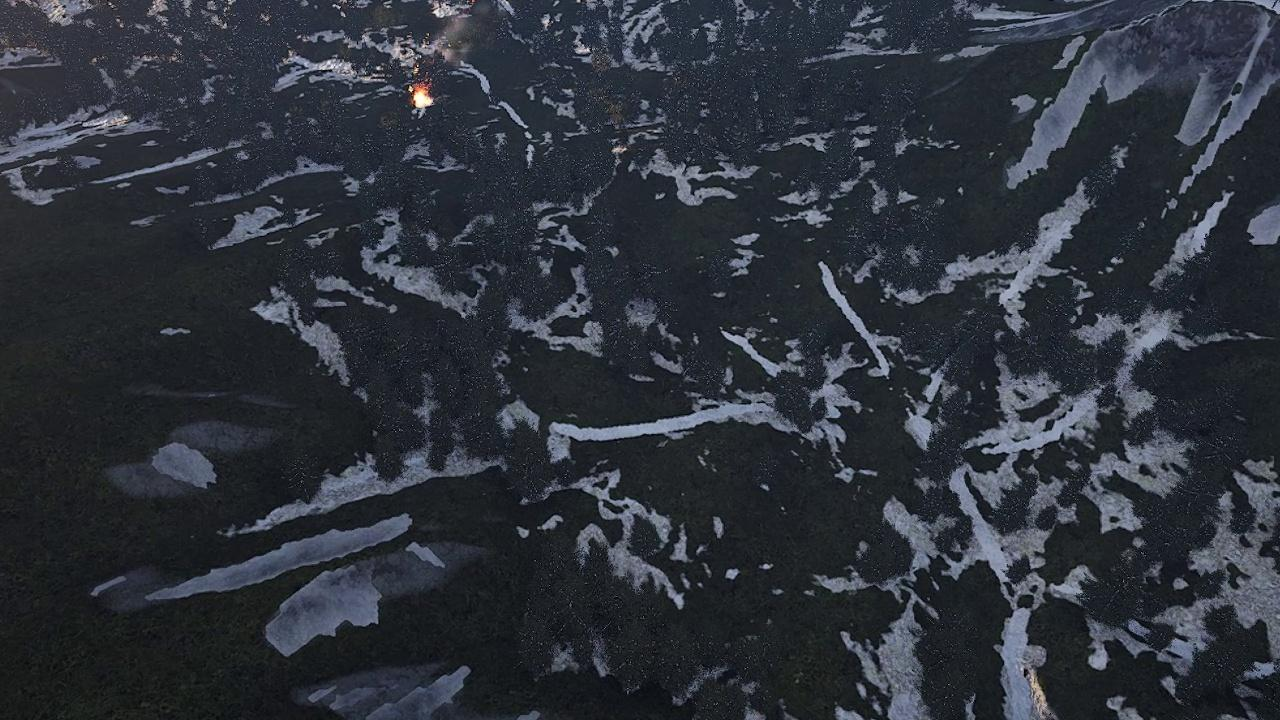fire: (412, 87, 433, 108)
smoke: (426, 0, 501, 67)
